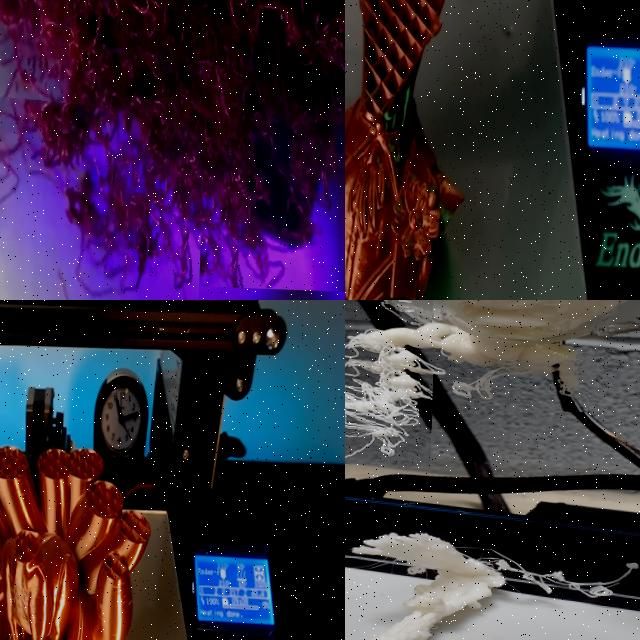spaghetti: (0, 85, 205, 300), (345, 333, 434, 466), (462, 541, 640, 602), (456, 356, 589, 412), (345, 300, 434, 322)
